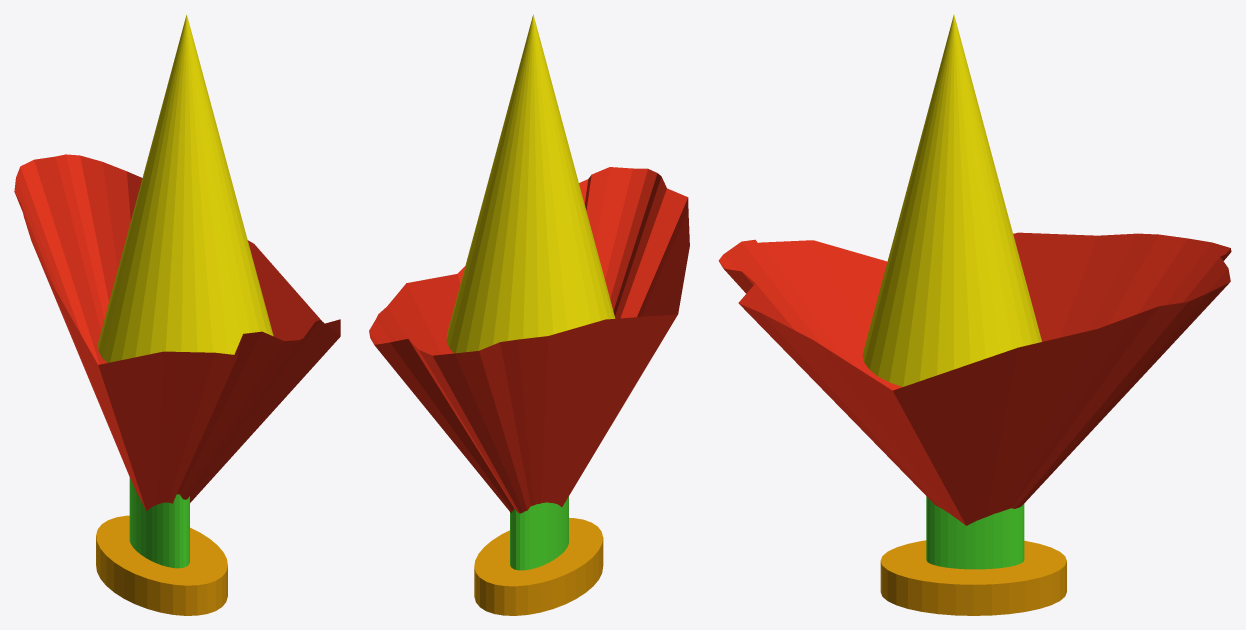
The model's file is BANGKAI.fbx.
3 views of the same model, side by side, from view 1: azimuth 30°, elevation 25°; view 2: azimuth 150°, elevation 25°; view 3: azimuth 270°, elevation 25° (orthographic). The views are drawn at different scales.
Visible parts, largest first — view 1: Cone.000, Cone.002, Cylinder.001, Cylinder; view 2: Cone.000, Cone.002, Cylinder.001, Cylinder; view 3: Cone.000, Cone.002, Cylinder.001, Cylinder.
Boxes of the visible parts, x1,y1,x2,y2 form: Cone.000: [14, 154, 340, 510]; Cone.002: [98, 14, 273, 362]; Cylinder.001: [96, 515, 227, 615]; Cylinder: [129, 477, 189, 568]; Cone.000: [369, 167, 689, 513]; Cone.002: [446, 14, 615, 353]; Cylinder.001: [474, 517, 603, 615]; Cylinder: [510, 496, 568, 570]; Cone.000: [718, 232, 1231, 525]; Cone.002: [862, 14, 1041, 386]; Cylinder.001: [880, 540, 1066, 615]; Cylinder: [926, 496, 1024, 569].
Size of the model in its own units: 449 by 1081 by 858.
